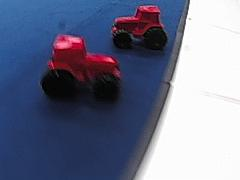Tracktor: (40, 31, 124, 100), (109, 3, 168, 49)
